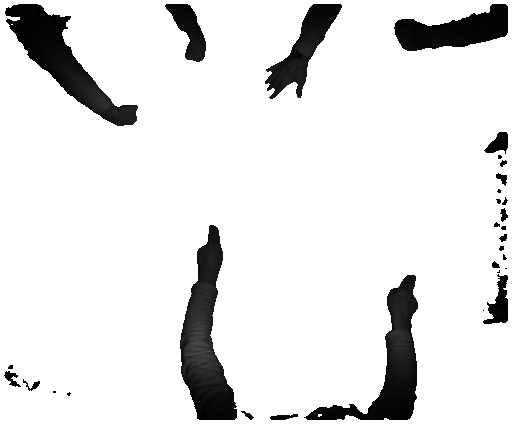fist: (392, 17, 429, 55), (113, 96, 143, 127), (184, 39, 207, 63)
hand: (384, 272, 423, 323), (264, 61, 311, 103), (192, 224, 223, 283)
